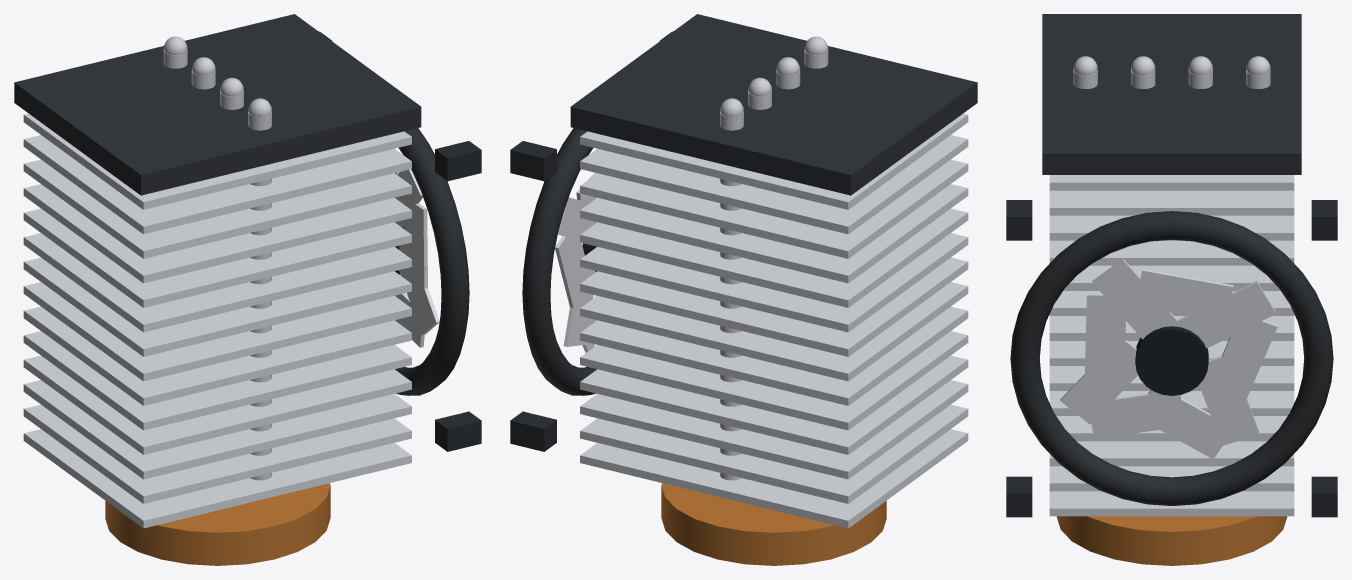
File: cooler.glb
3 renders of one model, left to right at view 1: azimuth 30°, elevation 25°; view 2: azimuth 150°, elevation 25°; view 3: azimuth 270°, elevation 25°, orthographic. The views are drawn at different scales.
Parts seen in each view (by area): view 1: world, 32, 33, 34; view 2: world, 28, 36, 29; view 3: world, 37, 30, 36, 32, 35, 33, 31, 28, 29, 34.
Boxes of the visible parts, box(x1,y1,x2,y2) form: world: box(14, 14, 481, 565); 32: box(404, 200, 427, 291); 33: box(399, 243, 439, 335); 34: box(395, 293, 424, 347); world: box(510, 14, 977, 565); 28: box(555, 223, 589, 307); 36: box(563, 267, 595, 346); 29: box(557, 197, 596, 239); world: box(1006, 14, 1337, 565); 37: box(1135, 326, 1208, 395); 30: box(1135, 269, 1233, 321); 36: box(1199, 355, 1259, 445); 32: box(1085, 293, 1126, 379); 35: box(1134, 390, 1233, 459); 33: box(1060, 338, 1137, 424); 31: box(1092, 258, 1180, 339); 28: box(1207, 314, 1277, 404); 29: box(1176, 281, 1275, 348); 34: box(1088, 393, 1184, 438).
Bounding box in the file's own units: 2.65 × 3.52 × 2.3.
